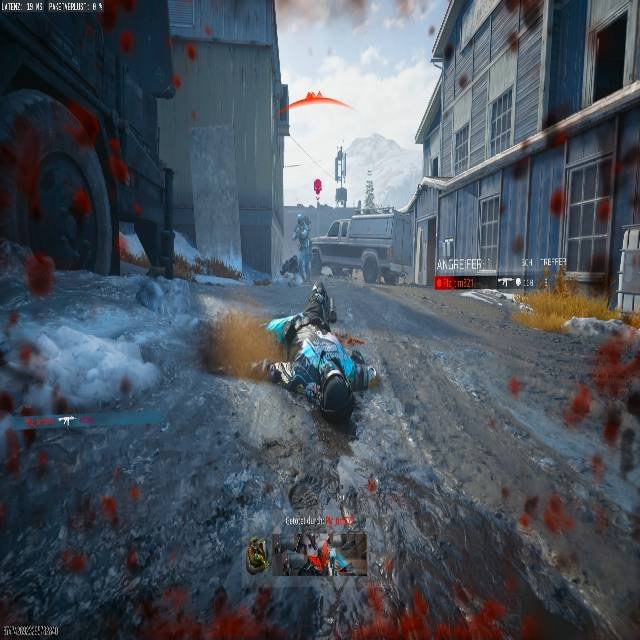head: (304, 282, 337, 327), (297, 212, 306, 223)
